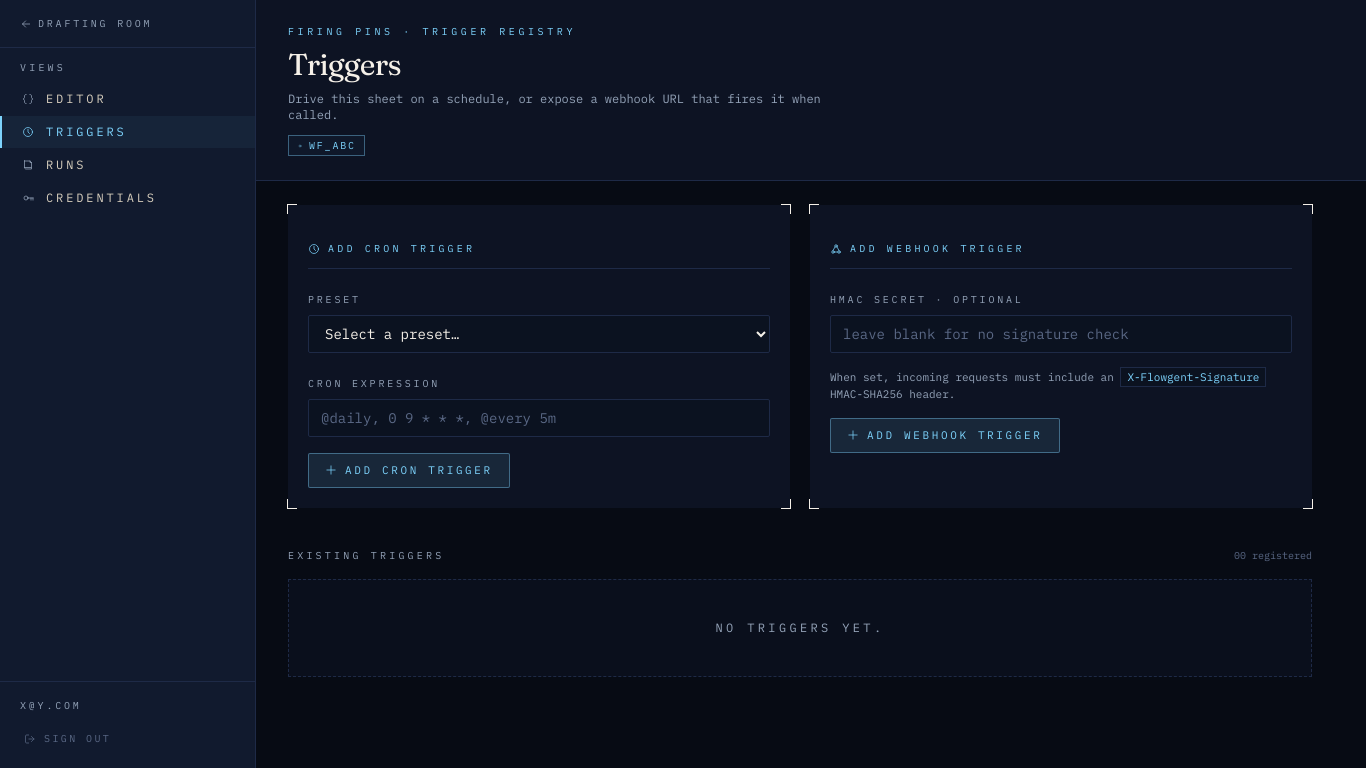
Test: TriggersPage › preset fills the cron expression input
Select "Every day (@daily)" in the dropdown labelled "preset". click: coordinates (539, 334)
box: [308,315,770,353]
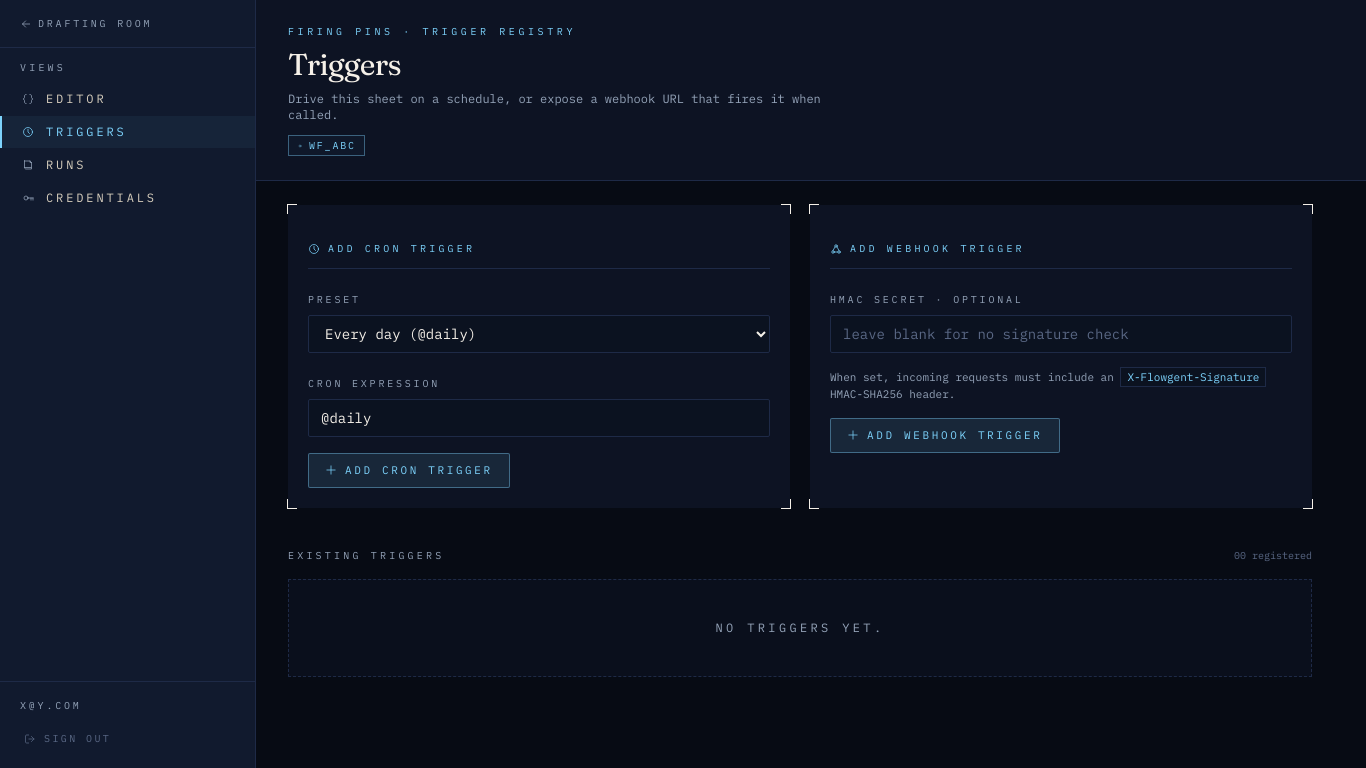
Expected: the field labelled "cron expression" holds "@daily", [308,399,770,437]
